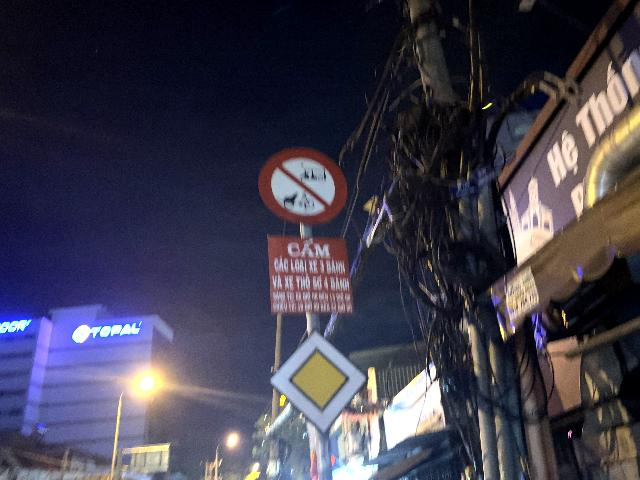bat-dau-duong-uu-tien: (271, 329, 369, 434)
cam-xe-3-banh-xe-tho-so-4-banh: (258, 146, 347, 226)
